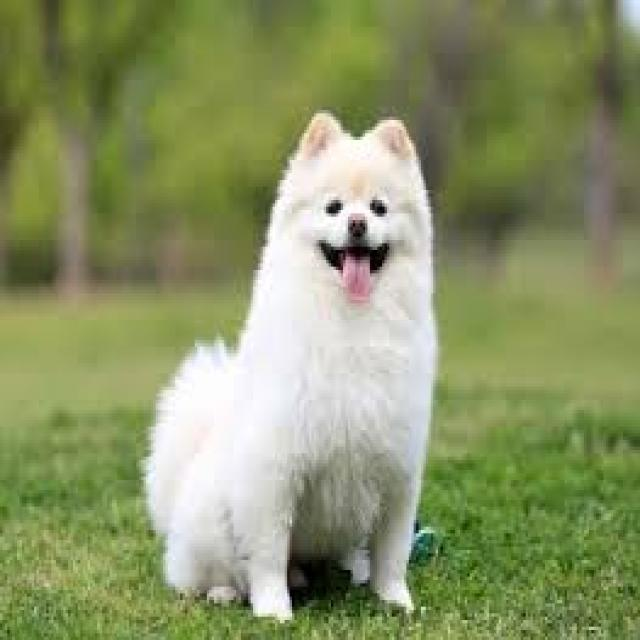dogs: (119, 69, 456, 627)
